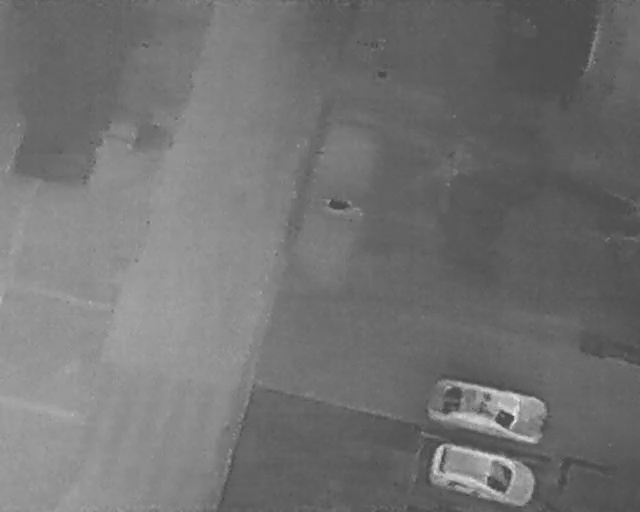Bicycle: (318, 192, 362, 214)
Car: (423, 373, 553, 447), (424, 438, 541, 511)
